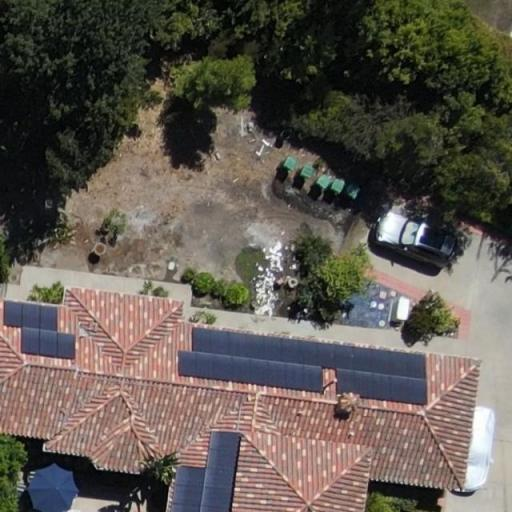solar-panel: (177, 327, 427, 404), (170, 432, 241, 512), (4, 301, 76, 359)
